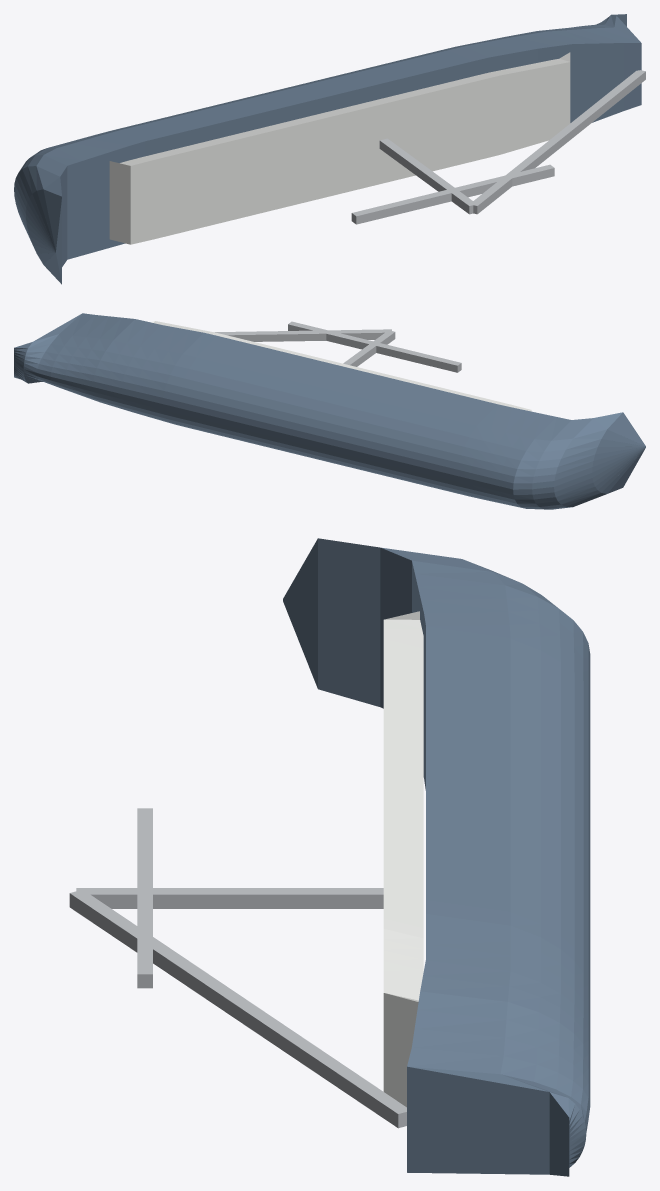
The model's file is loft-tessarakonteres.glb.
3 renders of one model, top to bottom at view 1: azimuth 30°, elevation 25°; view 2: azimuth 150°, elevation 25°; view 3: azimuth 270°, elevation 25°, orthographic. The views are drawn at different scales.
Parts seen in each view (by area): view 1: tessarakonteres; view 2: tessarakonteres; view 3: tessarakonteres.
Boxes of the visible parts, x1=… form: tessarakonteres: x1=14, y1=14, x2=645, y2=284; tessarakonteres: x1=14, y1=313, x2=645, y2=509; tessarakonteres: x1=69, y1=538, x2=590, y2=1176.
Bounding box in the file's own units: 1.98 × 0.28 × 0.7966.
